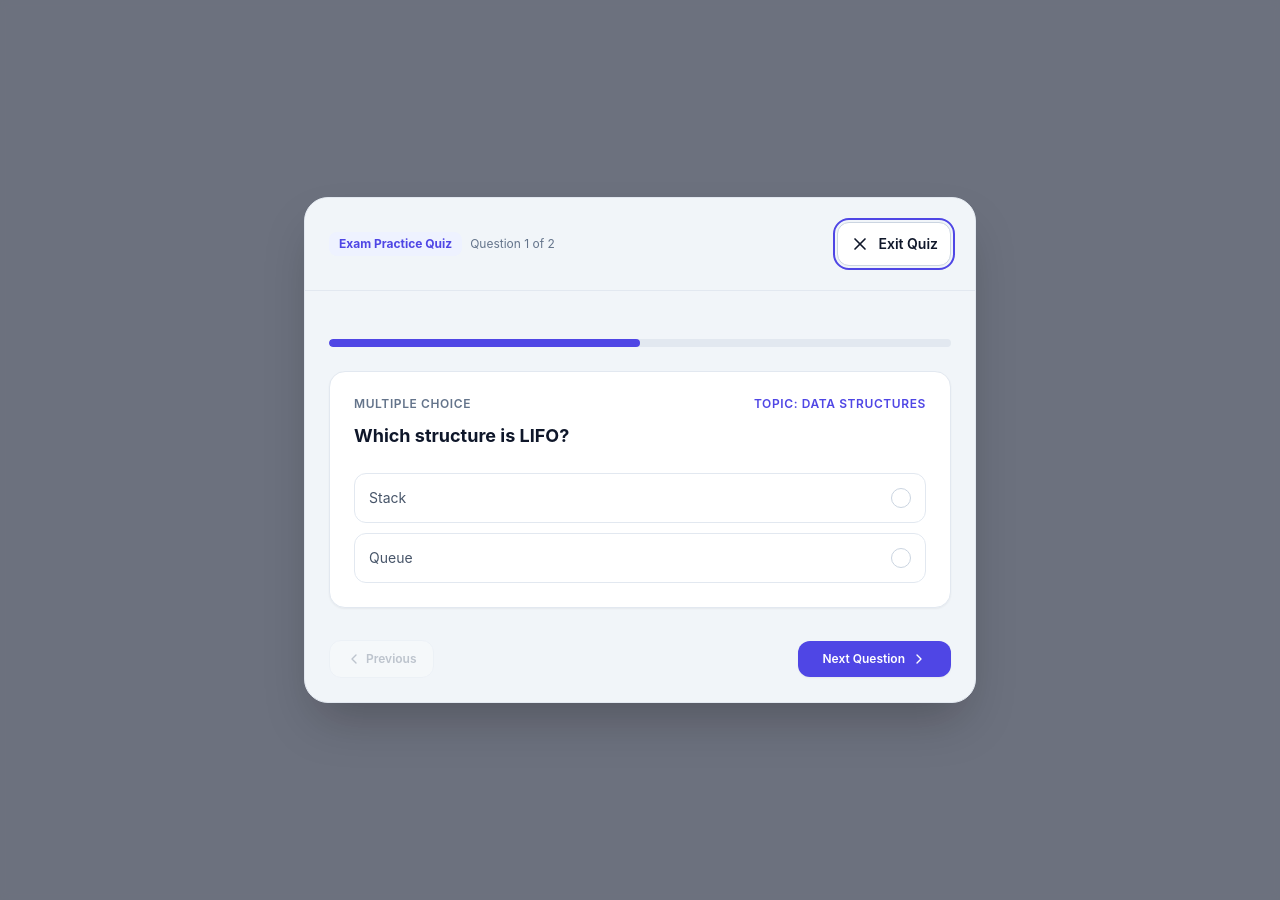
Test: shared content filtering and rendered surfaces › renders quiz questions and results with consistent scoring after filtering
Click the button "Stack". click: (388, 497)
box: [354, 473, 926, 523]
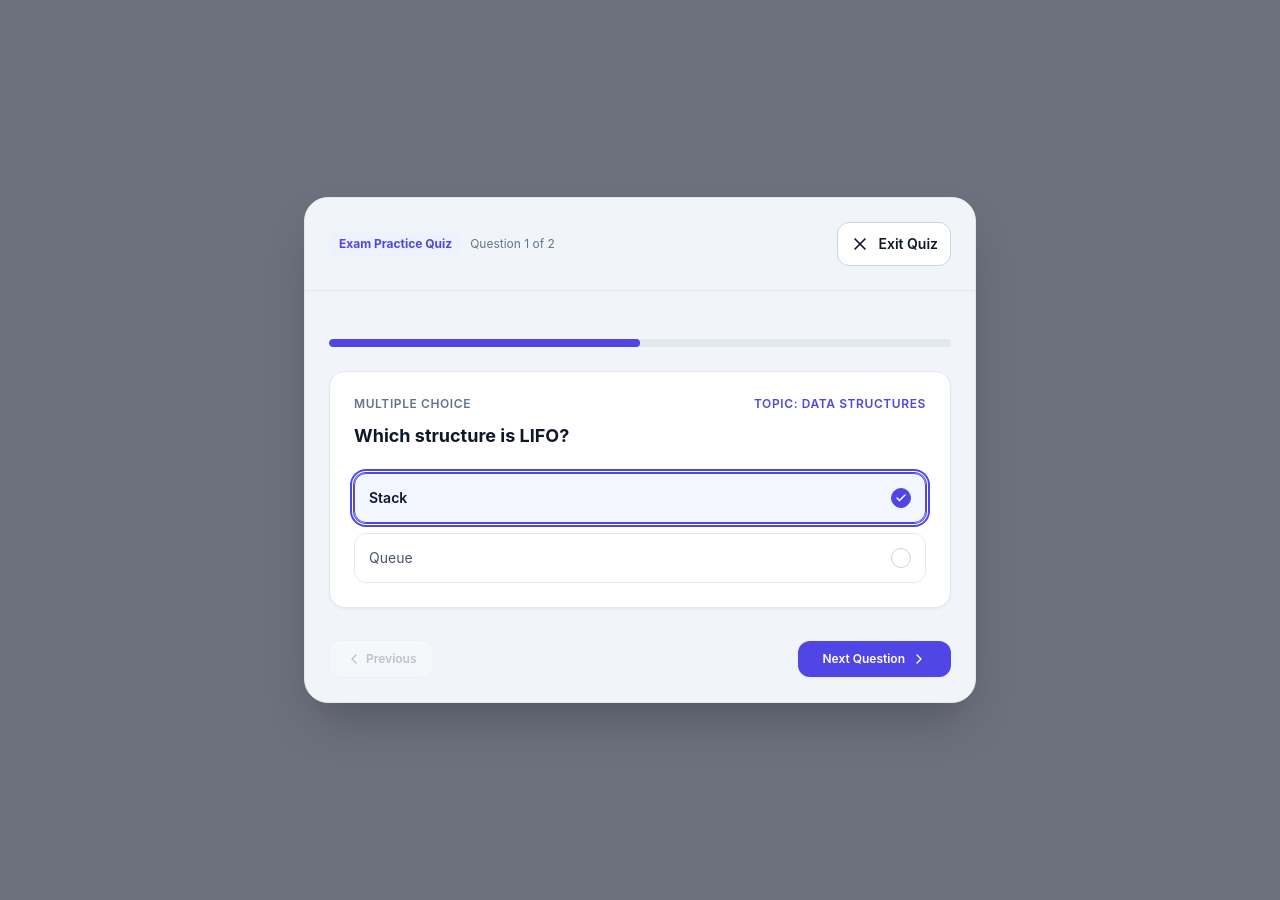
Click the button "Next Question". click: (875, 659)
box: [798, 641, 951, 677]
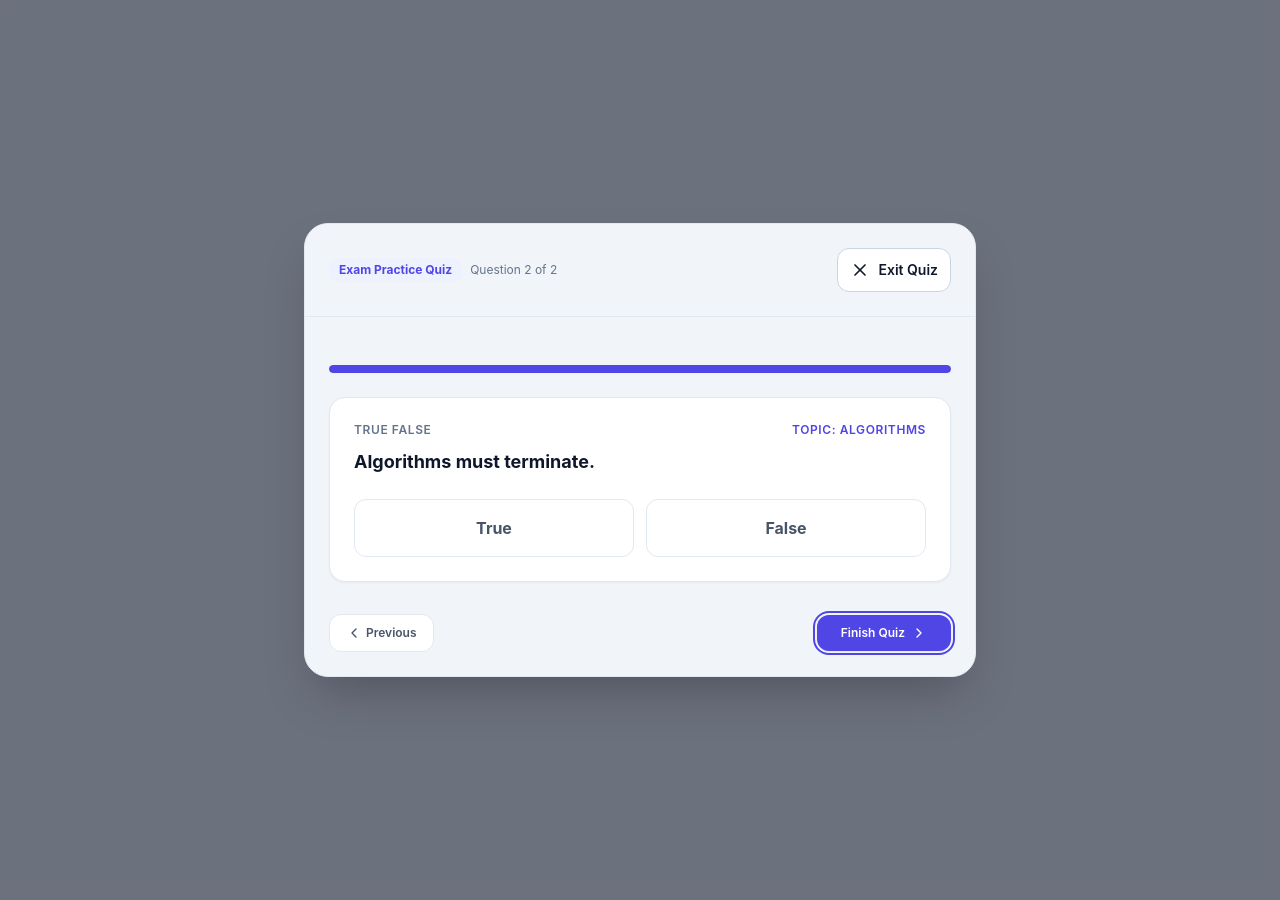
Click the button "True". click: (494, 528)
box: [354, 499, 634, 557]
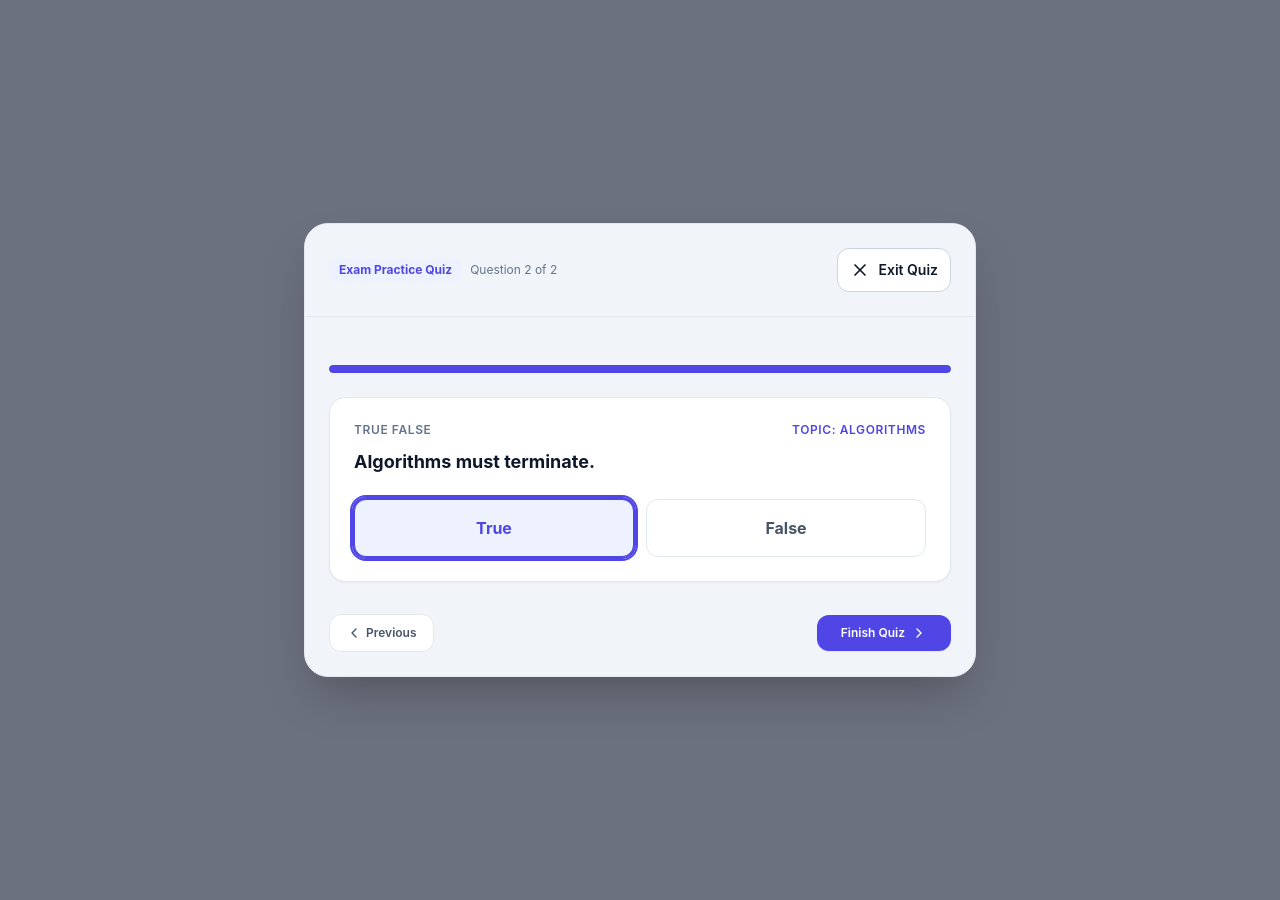
Click the button "Finish Quiz". click: (884, 633)
box: [817, 615, 951, 651]
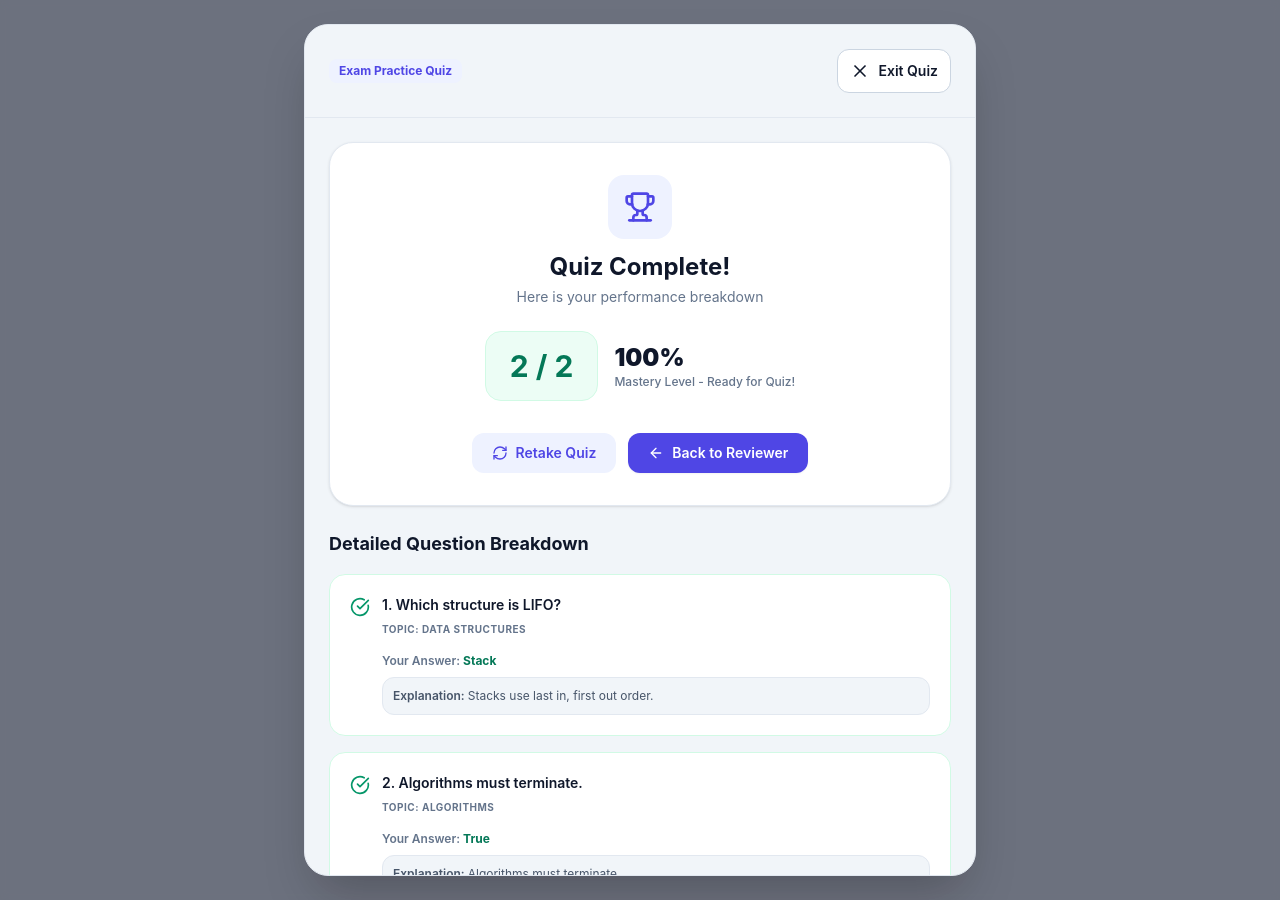
Now the text "100%" is shown, box [614, 343, 684, 372]
Now the text "2 / 2" is shown, box [485, 331, 598, 401]
